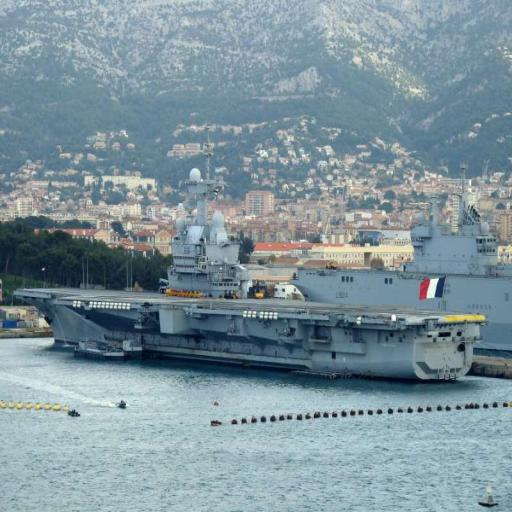Portanaves: (13, 125, 484, 394)
